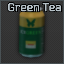Green Ice can: (0, 0, 64, 64)
